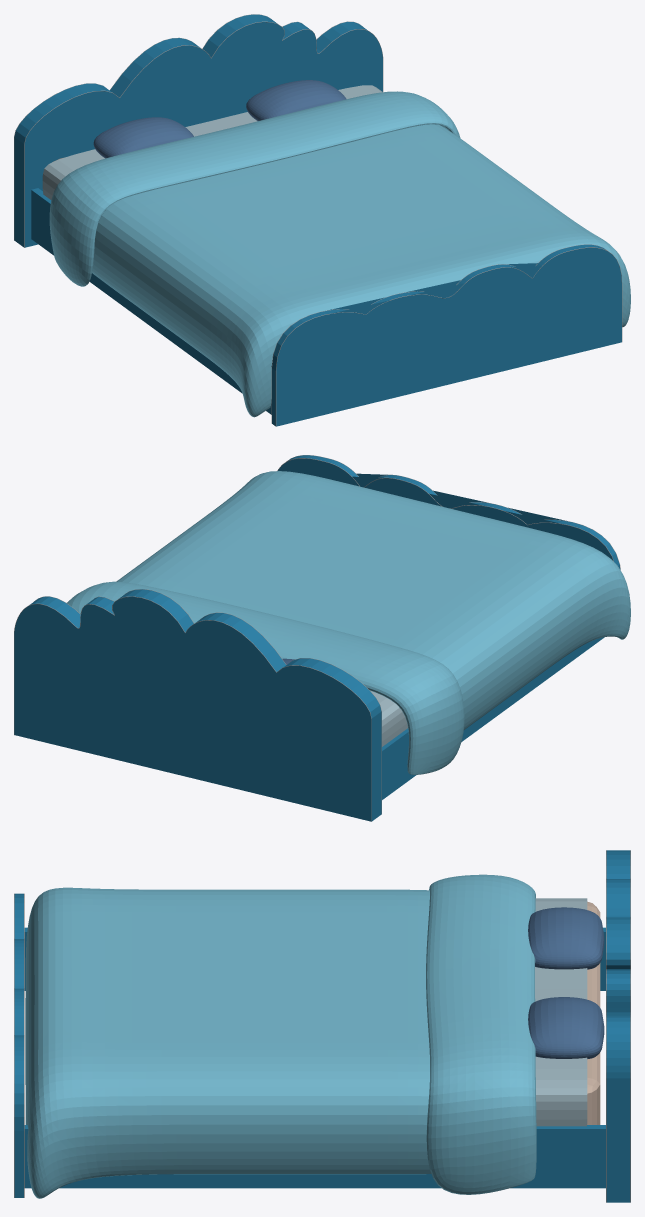
File: lettoCloud.obj
3 renders of one model, top to bottom at view 1: azimuth 30°, elevation 25°; view 2: azimuth 150°, elevation 25°; view 3: azimuth 270°, elevation 25°, orthographic. The views are drawn at different scales.
Parts seen in each view (by area): view 1: Plane.003_Plane.004, bed_Mesh.001, Cube.010_Cube.000, Cube.010_Cube.011, Plane.004_Plane.005, letto.003_letto.000; view 2: Plane.003_Plane.004, bed_Mesh.001, letto.003_letto.000, Plane.004_Plane.005; view 3: Plane.003_Plane.004, bed_Mesh.001, Plane.004_Plane.005, Cube.010_Cube.011, Cube.010_Cube.000, Cube.007_Cube.004, letto.003_letto.000.
Part boxes in pixels (x1,y1,x2,y2): Plane.003_Plane.004: (49, 91, 630, 417); bed_Mesh.001: (14, 14, 621, 426); Cube.010_Cube.000: (246, 80, 346, 120); Cube.010_Cube.011: (93, 117, 193, 158); Plane.004_Plane.005: (42, 85, 382, 199); letto.003_letto.000: (14, 14, 622, 426); Plane.003_Plane.004: (67, 471, 630, 774); bed_Mesh.001: (14, 455, 620, 821); letto.003_letto.000: (14, 455, 620, 821); Plane.004_Plane.005: (371, 691, 407, 746); Plane.003_Plane.004: (25, 874, 536, 1198); bed_Mesh.001: (14, 850, 630, 1202); Plane.004_Plane.005: (535, 898, 587, 1126); Cube.010_Cube.011: (528, 907, 604, 969); Cube.010_Cube.000: (528, 997, 604, 1058); Cube.007_Cube.004: (587, 901, 600, 1124); letto.003_letto.000: (14, 850, 630, 1202).
Bounding box in the file's own units: 189 × 78.8 × 216.
